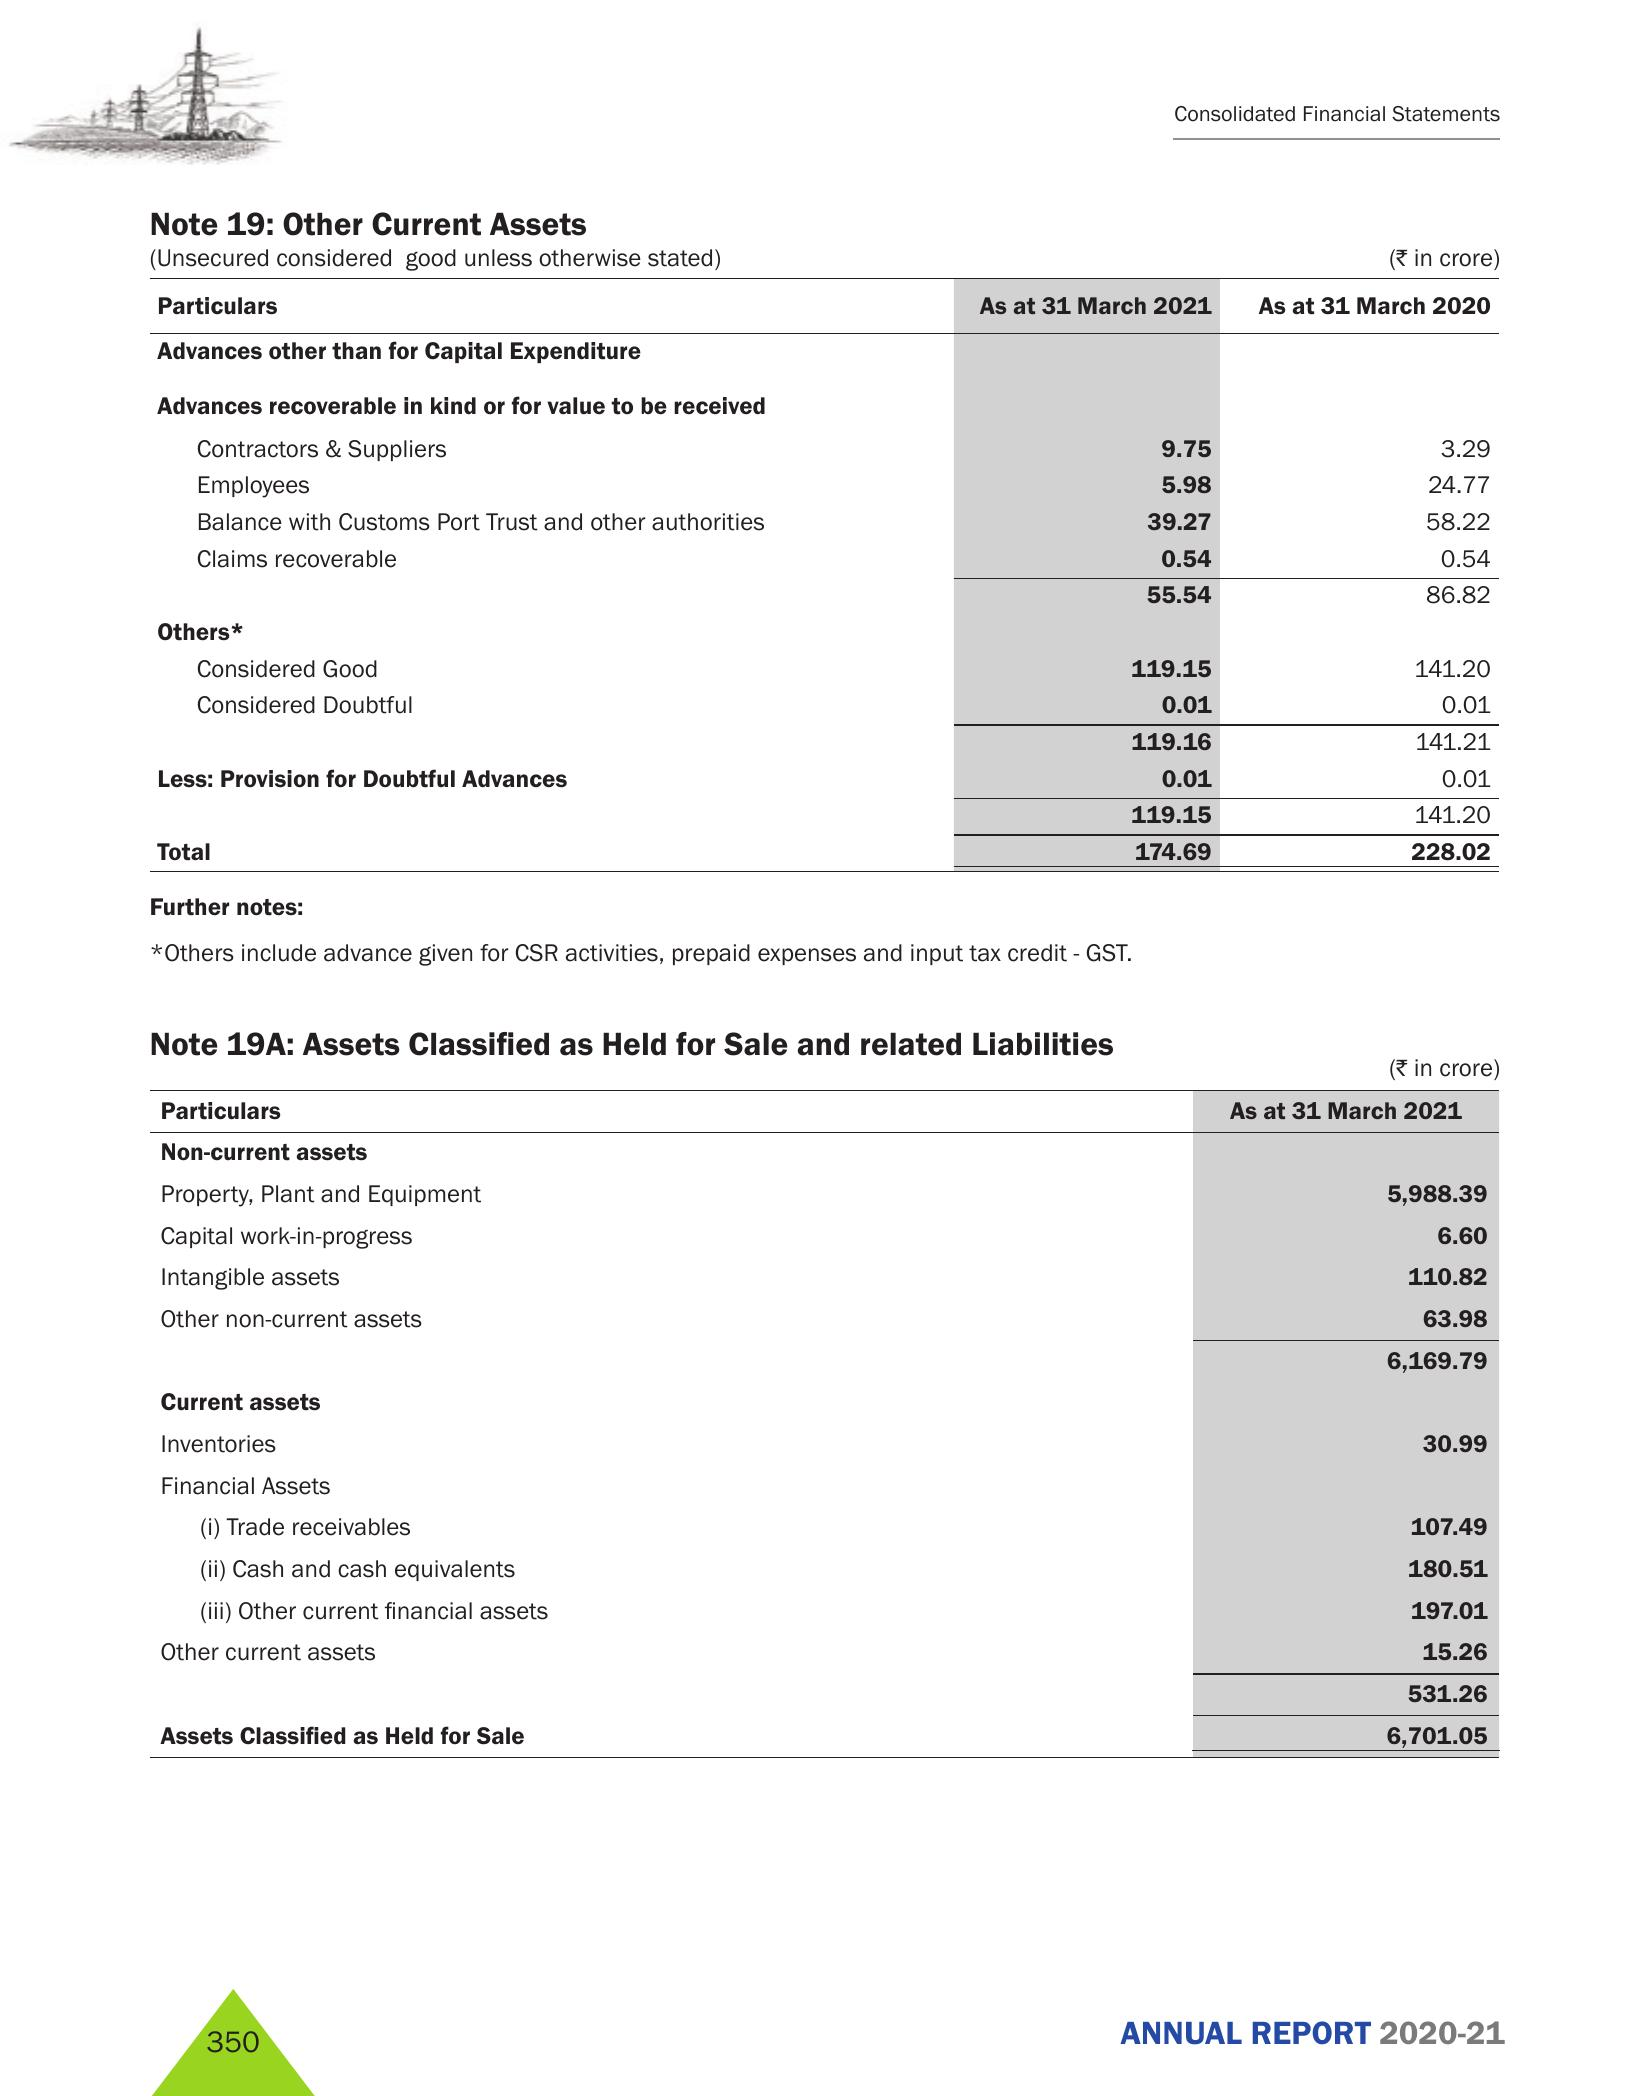Footer: (0, 1968, 1650, 2096)
Header: (0, 0, 1650, 192)
Table: (114, 1091, 1507, 1764), (134, 277, 1528, 869)
